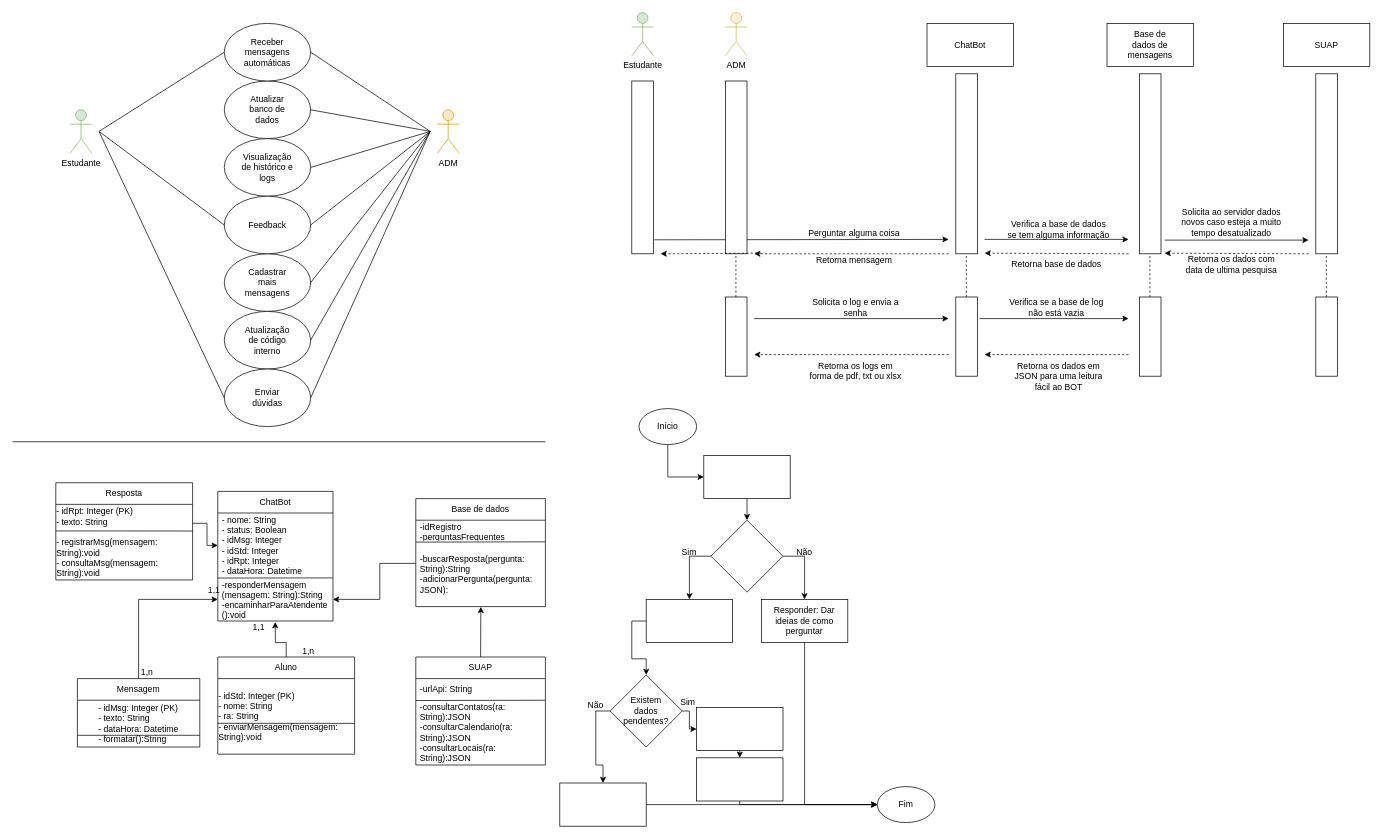
This 1382x839 diagram has some shape labels left out. The centre of each missing label's shape, as x and y in pixels:
"Chama o banco de dados" goes at [689,621].
"Chama o servidor" goes at [739,729].
"Existe alguma palavra chave?" goes at [746,555].
"Pergunta alguma coisa" goes at [746,477].
"Retorna valores atuais" goes at [602,804].
"Retorna valores novos" goes at [739,779].
